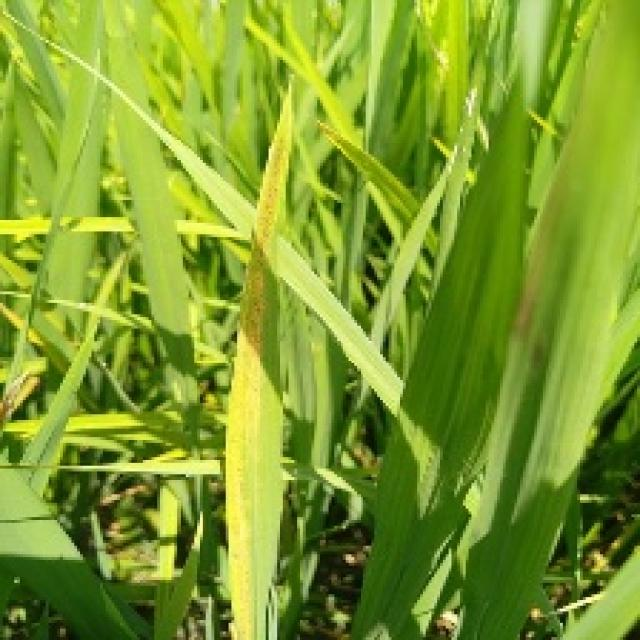Unhealthy: (225, 98, 288, 640), (513, 248, 542, 341), (0, 369, 40, 423), (316, 119, 356, 159), (534, 349, 543, 363), (0, 449, 6, 463)
